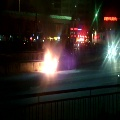fire: (38, 48, 57, 75)
